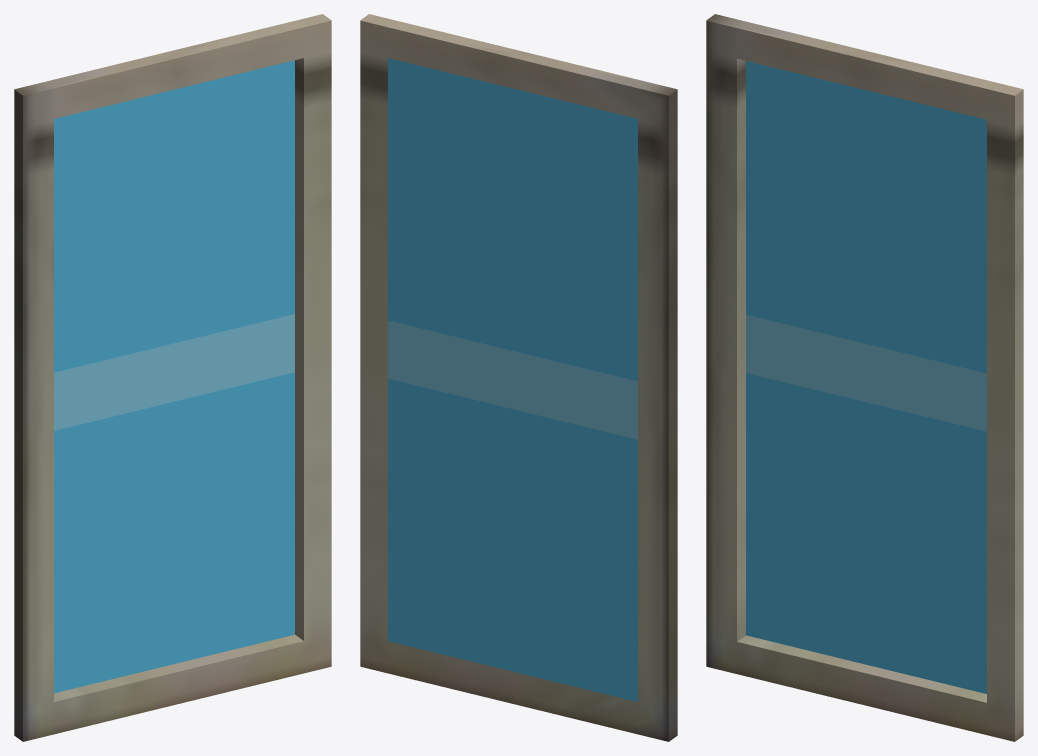
The model's file is door_left.glb.
The picture shows the model from 3 angles, left to right: view 1: azimuth 30°, elevation 25°; view 2: azimuth 150°, elevation 25°; view 3: azimuth 330°, elevation 25°; orthographic projection.
Visible parts, largest first — view 1: WideDoorLeft; view 2: WideDoorLeft; view 3: WideDoorLeft.
Part boxes in pixels (x1,y1,x2,y2): WideDoorLeft: (14, 14, 331, 741); WideDoorLeft: (360, 14, 677, 741); WideDoorLeft: (706, 14, 1023, 741).
Bounding box in the file's own units: 2 × 4 × 0.1.
Materials: 3 (1 with a texture image).
